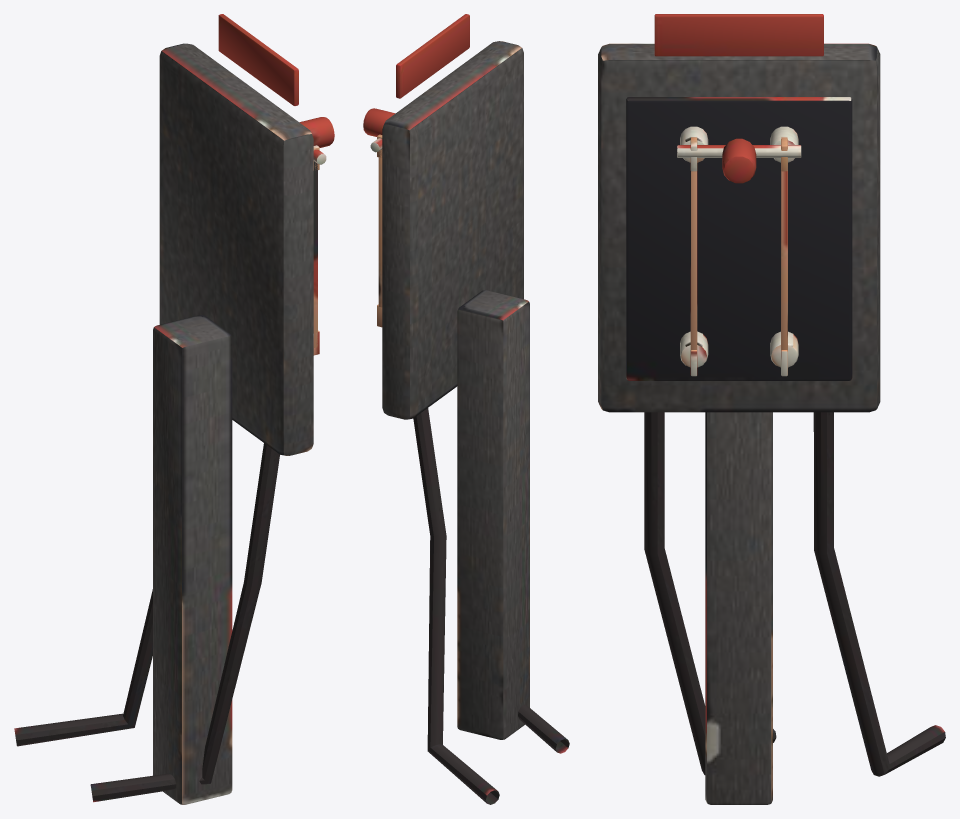
File: power.glb
3 views of the same model, side by side, from view 1: azimuth 30°, elevation 25°; view 2: azimuth 150°, elevation 25°; view 3: azimuth 270°, elevation 25° (orthographic). The views are drawn at different scales.
Parts seen in each view (by area): view 1: panel, post, cable-0.15, cable0.15, sign, blade-0.08, knob; view 2: panel, post, cable0.15, sign, cable-0.15, blade0.08, knob; view 3: slate, panel, post, cable0.15, sign, cable-0.15, blade-0.08, knob, blade0.08, crossbar, ins0.95-0.08, ins0.950.08.
Part boxes in pixels (box(x1,y1,x2,y2)): panel: box(159, 43, 313, 455); post: box(153, 315, 232, 804); cable-0.15: box(90, 443, 279, 802); cable0.15: box(14, 589, 152, 746); sign: box(218, 14, 298, 105); blade-0.08: box(313, 161, 317, 347); knob: box(299, 117, 334, 147); panel: box(382, 41, 523, 419); post: box(457, 290, 529, 739); cable0.15: box(413, 408, 499, 804); sign: box(396, 14, 469, 98); cable-0.15: box(518, 704, 569, 753); blade0.08: box(378, 149, 382, 307); knob: box(363, 108, 395, 136); slate: box(626, 97, 852, 380); panel: box(598, 43, 880, 412); post: box(705, 412, 772, 804); cable0.15: box(813, 412, 945, 776); sign: box(654, 14, 823, 56); cable-0.15: box(644, 412, 776, 774); blade-0.08: box(690, 171, 697, 350); knob: box(722, 138, 756, 183); blade0.08: box(781, 170, 787, 350); crossbar: box(677, 145, 801, 157); ins0.95-0.08: box(680, 331, 708, 367); ins0.950.08: box(770, 331, 798, 367).
Size of the model in its own units: 0.5182 by 1.59 by 0.6159.
1 material, 1 textured.
